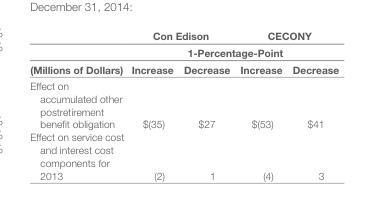table: (29, 29, 338, 180)
table column: (29, 29, 126, 180), (177, 29, 234, 180), (234, 29, 286, 180), (286, 29, 338, 180), (126, 29, 177, 180)
table column header: (29, 29, 338, 76)
table row: (29, 76, 338, 129), (29, 129, 338, 180), (29, 43, 338, 60), (29, 60, 338, 76), (29, 29, 338, 43)
table spanning cell: (29, 29, 126, 76), (126, 43, 338, 60), (126, 29, 234, 43), (234, 29, 338, 43)
